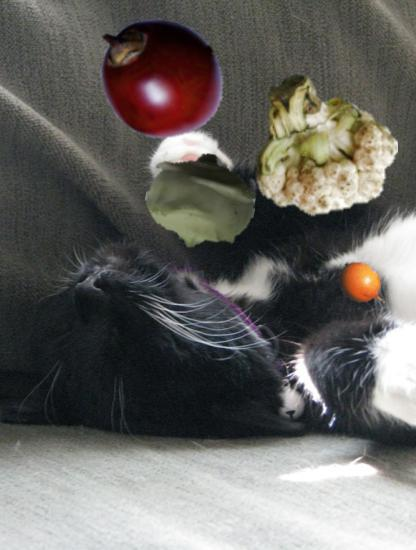Cauliflower: (250, 71, 398, 219)
Granadilla: (336, 258, 391, 313)
Kohlrabi: (146, 146, 256, 256)
Tamarillo: (95, 10, 228, 143)
